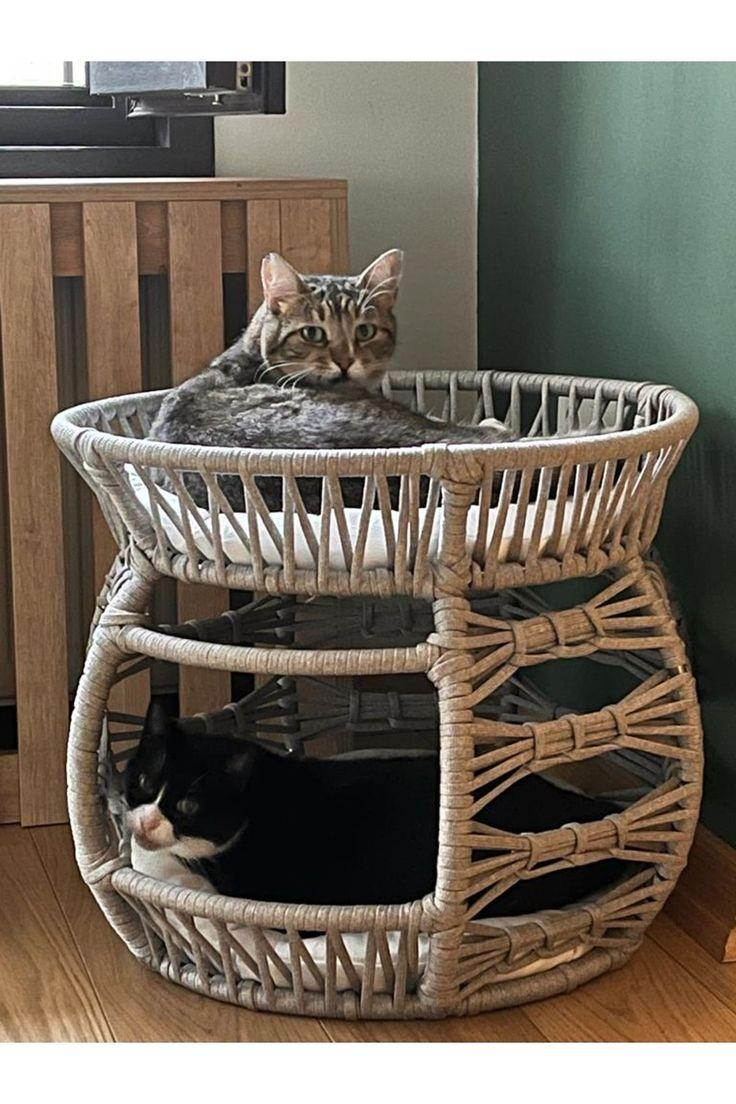kedo: (156, 253, 471, 445), (123, 698, 427, 895)
